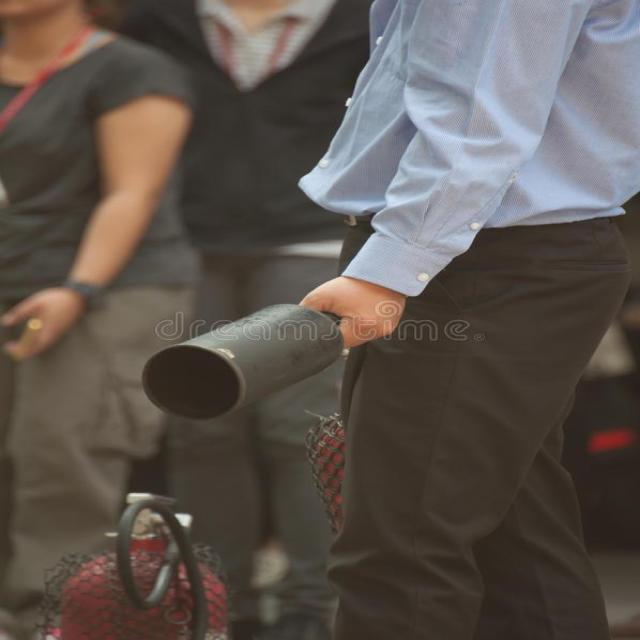fire_extinguisher: (30, 290, 390, 640)
